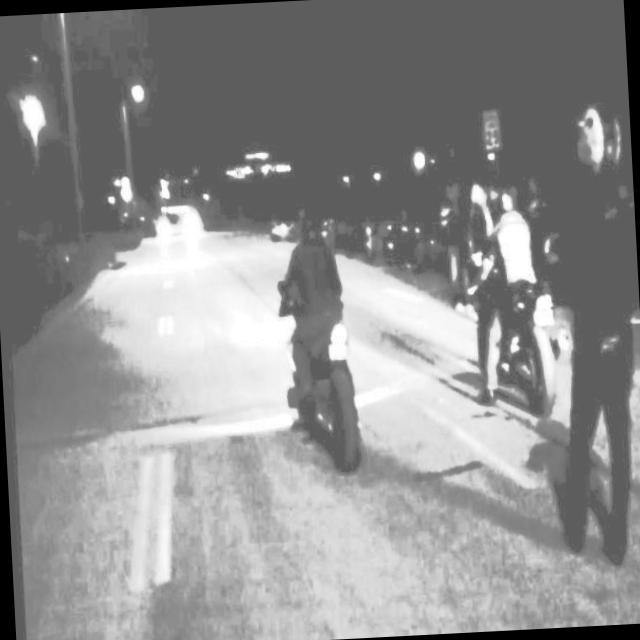Motorcycle: (274, 266, 374, 518), (464, 255, 567, 418)
